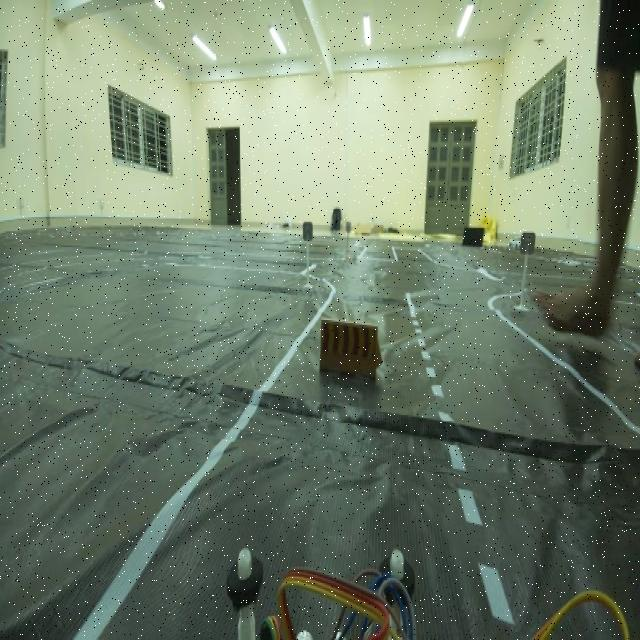roadblock: (316, 306, 392, 398)
